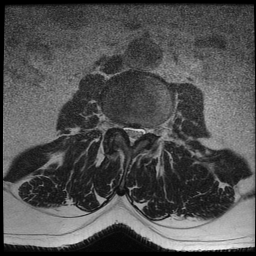CCS_normal: (129, 121, 136, 151)
LFS_normal: (145, 120, 155, 141)
LLS_stenosis: (136, 121, 145, 146)
RFS_stenosis: (113, 114, 122, 139)
RLS_stenosis: (122, 117, 129, 142)
